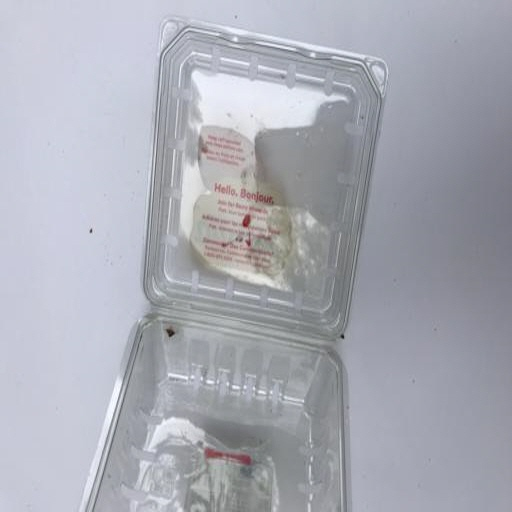Plastic_4: (80, 18, 390, 512)
